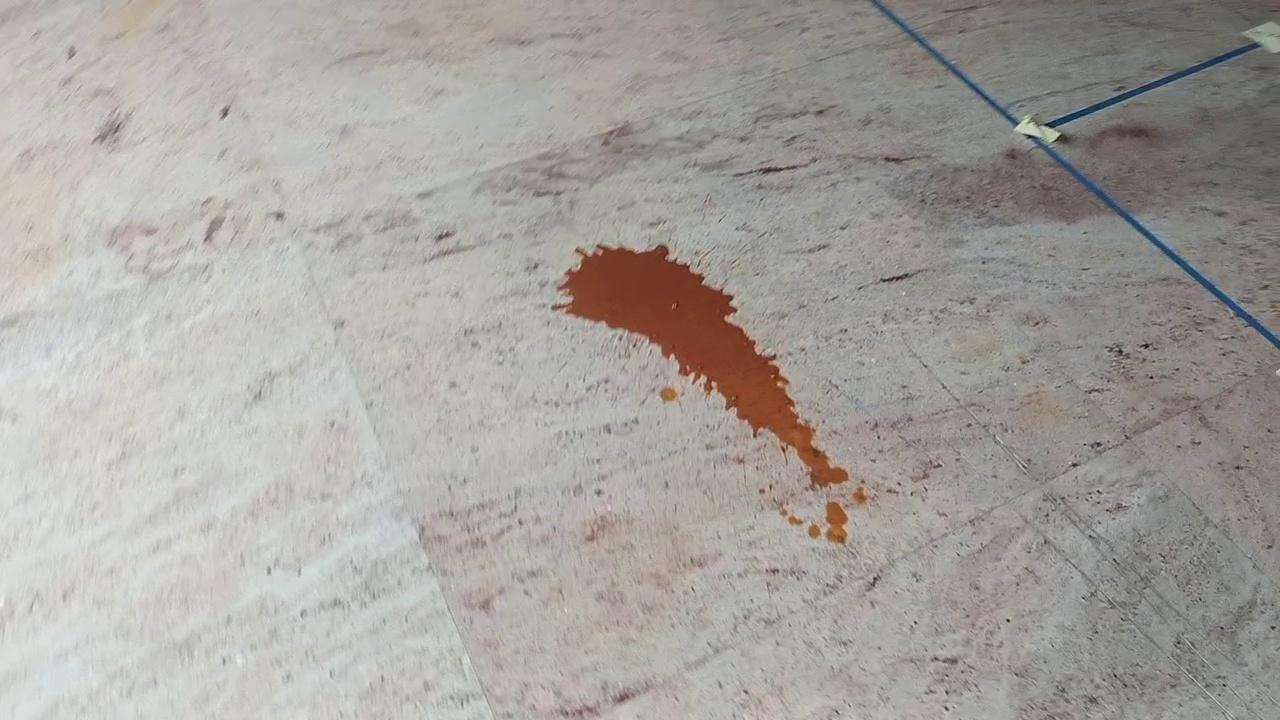dirty_floor: (540, 241, 872, 549)
